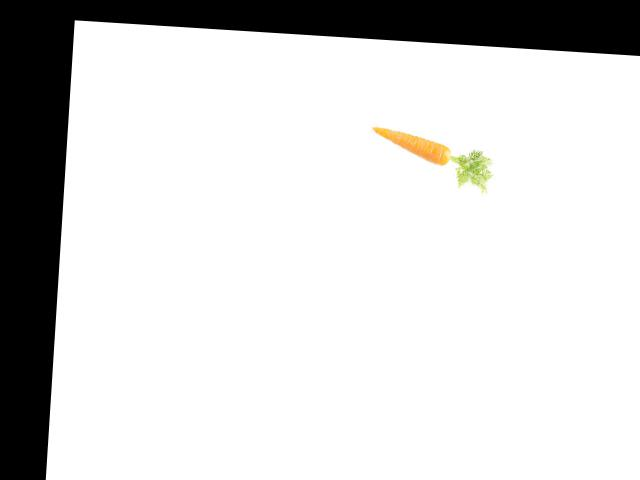carrot: (366, 123, 454, 168)
